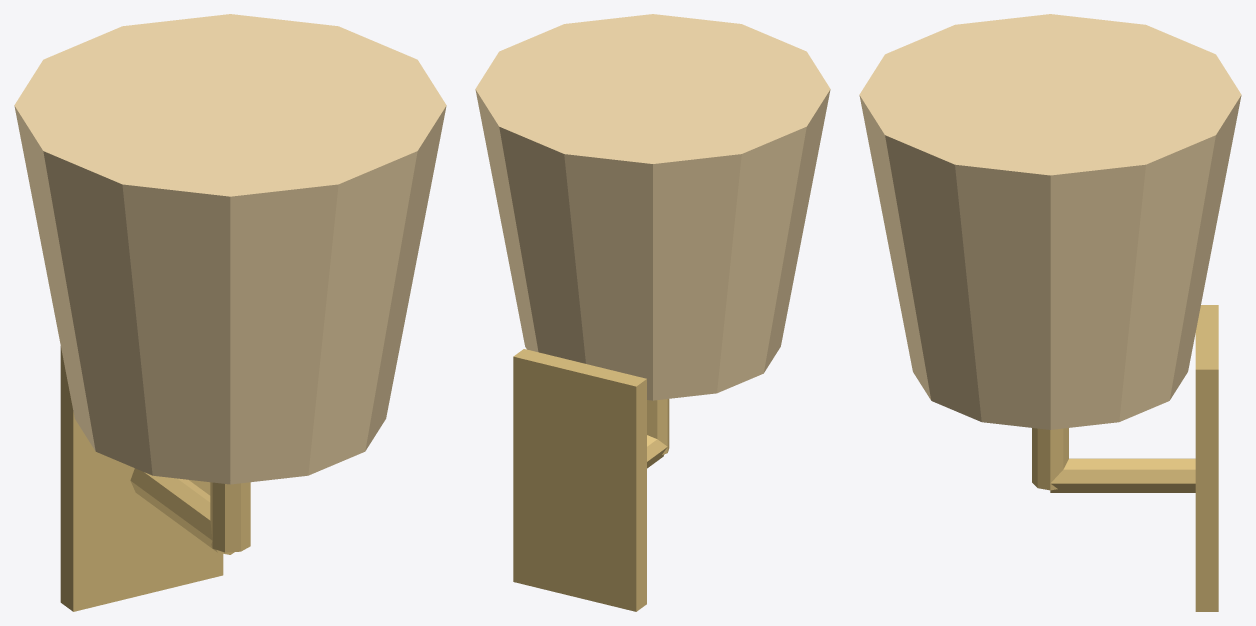
Rendered from INT_Lampara.fbx.
The picture shows the model from 3 angles, left to right: view 1: azimuth 30°, elevation 25°; view 2: azimuth 150°, elevation 25°; view 3: azimuth 270°, elevation 25°; orthographic projection. The views are drawn at different scales.
Parts seen in each view (by area): view 1: INT_Lampara; view 2: INT_Lampara; view 3: INT_Lampara.
Part boxes in pixels (x1,y1,x2,y2): INT_Lampara: (14, 14, 446, 611); INT_Lampara: (475, 14, 830, 611); INT_Lampara: (859, 14, 1241, 611).
Size of the model in its own units: 0.25 by 0.35 by 0.25.
